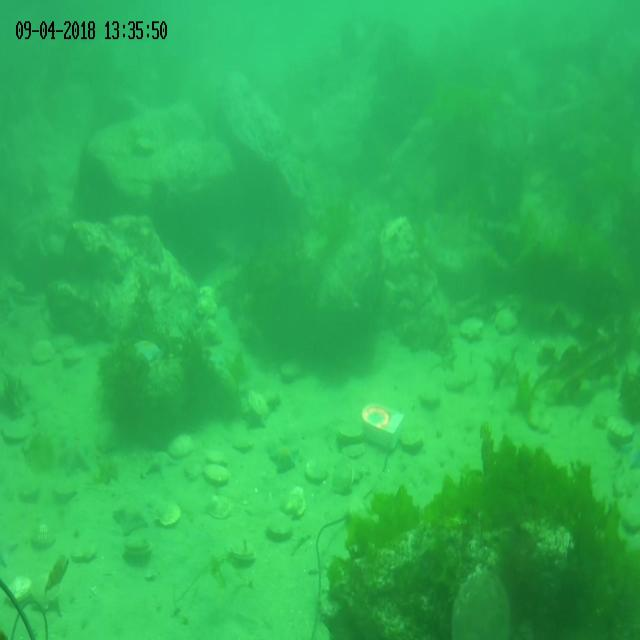scallop: (444, 358, 476, 391), (606, 410, 636, 445), (227, 536, 257, 566), (70, 534, 98, 566), (397, 422, 425, 453), (6, 571, 32, 604), (0, 417, 31, 443), (123, 536, 152, 563), (268, 510, 294, 540), (32, 337, 58, 366), (278, 485, 304, 513), (156, 499, 181, 528), (208, 493, 232, 523), (168, 431, 194, 458), (30, 520, 56, 547), (456, 312, 482, 338), (304, 457, 328, 483), (338, 421, 365, 444), (204, 463, 230, 484), (62, 345, 86, 367), (419, 384, 442, 406), (231, 434, 253, 454), (52, 331, 72, 350)
starfish: (59, 430, 91, 476), (140, 447, 173, 481), (269, 438, 298, 476), (134, 337, 162, 368), (624, 434, 640, 472)
